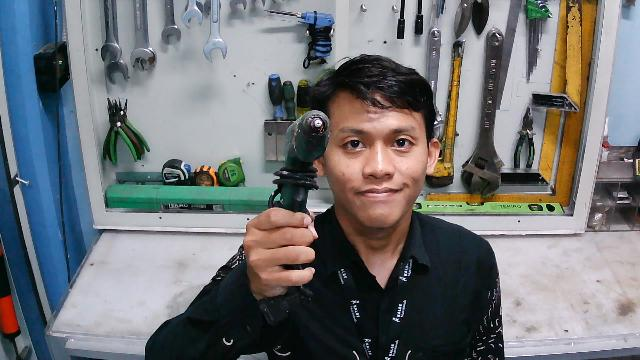gun_lem: (264, 111, 333, 275)
